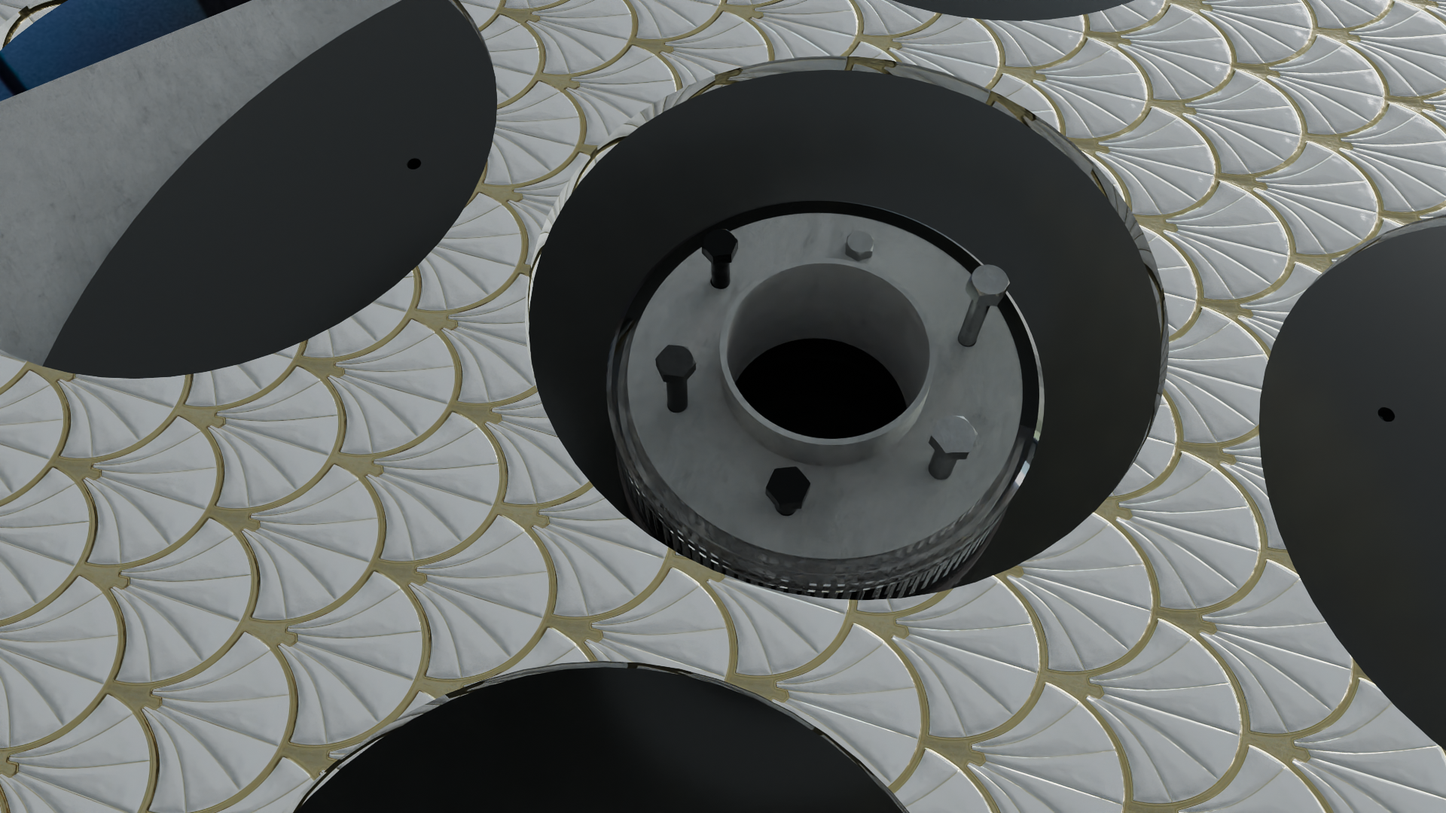bolt: (932, 416, 978, 453), (766, 467, 810, 504), (969, 264, 1010, 297), (655, 345, 696, 377), (702, 229, 738, 257), (847, 231, 874, 256)
